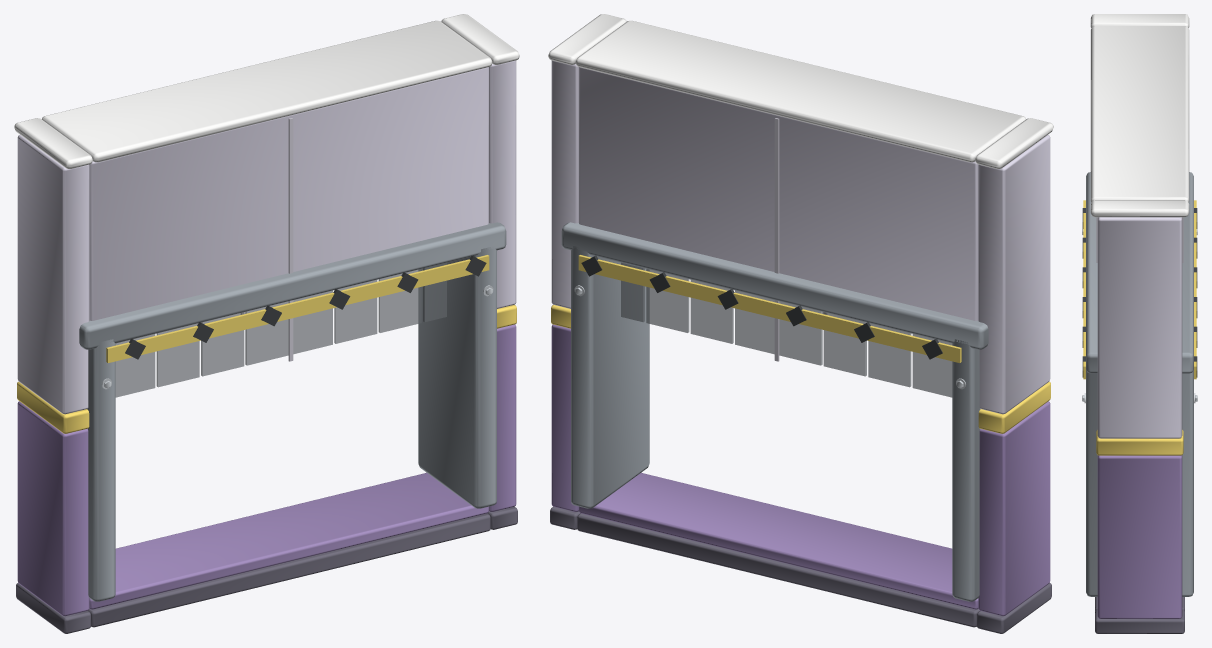
File: pared_pasamuros.glb
The picture shows the model from 3 angles, left to right: view 1: azimuth 30°, elevation 25°; view 2: azimuth 150°, elevation 25°; view 3: azimuth 270°, elevation 25°; orthographic projection. The views are drawn at different scales.
Visible parts, largest first — view 1: sobre_alta, sobre_remate, bajo_zocalo, izq_alta, marco1, izq_zocalo, marco_sup, bajo_rodapie, marco-1, der_alta, aviso-1, der_zocalo (+13 smaller); view 2: sobre_alta, sobre_remate, bajo_zocalo, izq_alta, marco1, izq_zocalo, marco_sup, bajo_rodapie, marco-1, der_alta, aviso1, der_zocalo (+13 smaller); view 3: der_alta, sobre_remate, der_zocalo, marco1, marco_sup, der_remate, der_franja, der_rodapie, izq_remate, aviso-1, aviso1.
Boxes of the visible parts, x1=… form: sobre_alta: x1=89, y1=67, x2=488, y2=320; sobre_remate: x1=42, y1=20, x2=492, y2=162; bajo_zocalo: x1=89, y1=472, x2=488, y2=609; izq_alta: x1=17, y1=135, x2=89, y2=414; marco1: x1=418, y1=246, x2=496, y2=508; izq_zocalo: x1=17, y1=401, x2=89, y2=616; marco_sup: x1=79, y1=222, x2=506, y2=349; bajo_rodapie: x1=88, y1=513, x2=490, y2=627; marco-1: x1=87, y1=339, x2=115, y2=601; der_alta: x1=489, y1=60, x2=516, y2=308; aviso-1: x1=106, y1=255, x2=489, y2=362; der_zocalo: x1=489, y1=324, x2=516, y2=511; sobre_alta: x1=579, y1=67, x2=978, y2=320; sobre_remate: x1=575, y1=20, x2=1025, y2=162; bajo_zocalo: x1=579, y1=472, x2=978, y2=609; izq_alta: x1=978, y1=135, x2=1050, y2=414; marco1: x1=571, y1=246, x2=649, y2=508; izq_zocalo: x1=978, y1=401, x2=1050, y2=616; marco_sup: x1=561, y1=222, x2=988, y2=349; bajo_rodapie: x1=577, y1=513, x2=979, y2=627; marco-1: x1=952, y1=339, x2=980, y2=601; der_alta: x1=551, y1=60, x2=578, y2=308; aviso1: x1=578, y1=255, x2=961, y2=362; der_zocalo: x1=551, y1=324, x2=578, y2=511; der_alta: x1=1097, y1=217, x2=1182, y2=438; sobre_remate: x1=1090, y1=26, x2=1189, y2=202; der_zocalo: x1=1097, y1=455, x2=1182, y2=618; marco1: x1=1086, y1=369, x2=1193, y2=596; marco_sup: x1=1086, y1=172, x2=1193, y2=373; der_remate: x1=1090, y1=200, x2=1189, y2=217; der_franja: x1=1096, y1=430, x2=1183, y2=455; der_rodapie: x1=1095, y1=609, x2=1184, y2=633; izq_remate: x1=1090, y1=14, x2=1189, y2=27; aviso-1: x1=1083, y1=200, x2=1085, y2=379; aviso1: x1=1194, y1=200, x2=1196, y2=379.
Bounding box in the file's own units: 1 × 1 × 0.2456.
